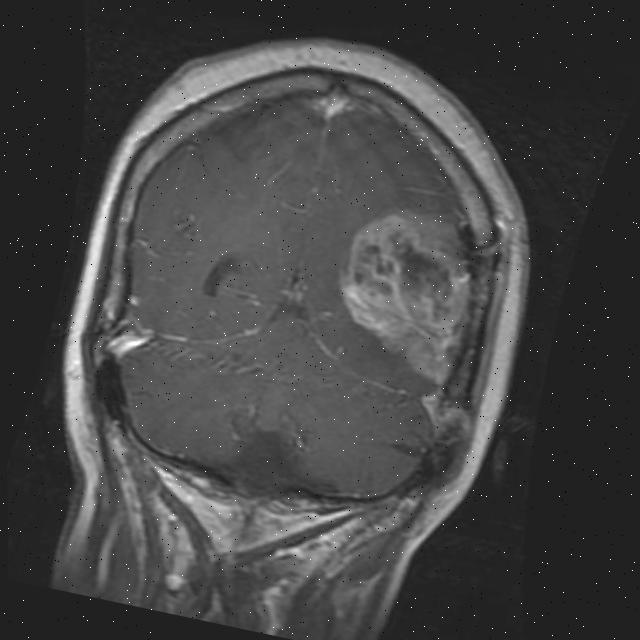Glioma: (319, 198, 485, 384)
